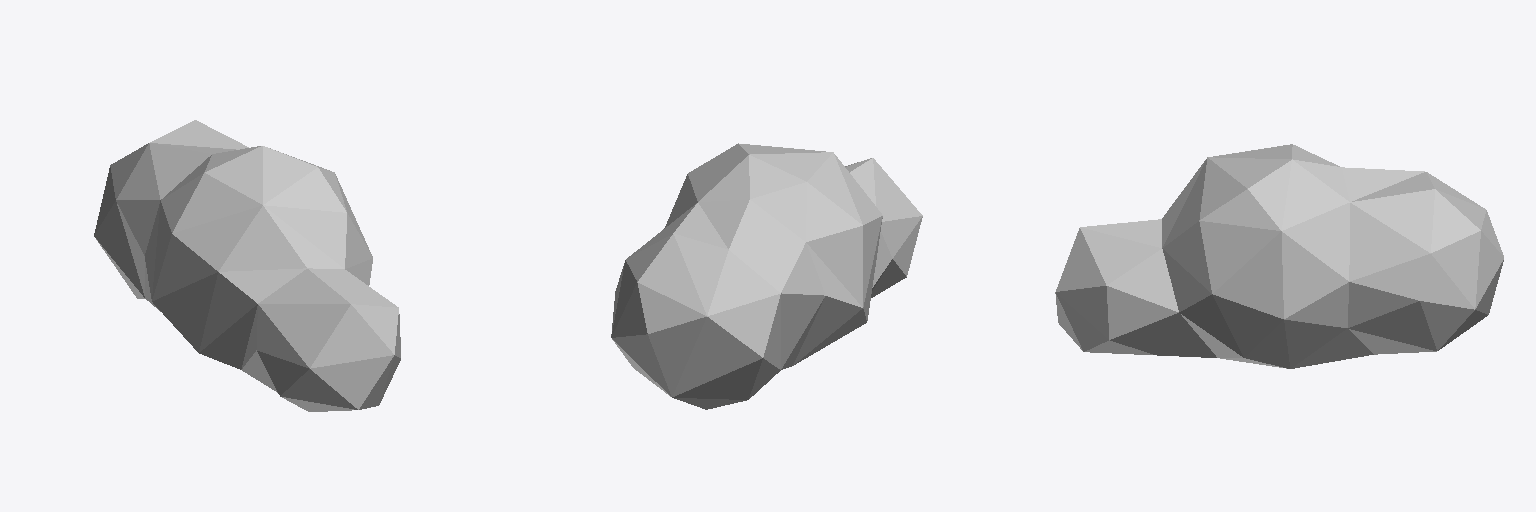
Rendered from cloud_1.obj.
3 views of the same model, side by side, from view 1: azimuth 30°, elevation 25°; view 2: azimuth 150°, elevation 25°; view 3: azimuth 270°, elevation 25° (orthographic).
Parts seen in each view (by area): view 1: Cloud1; view 2: Cloud1; view 3: Cloud1.
Part boxes in pixels (bbox=[...]): Cloud1: bbox=[94, 120, 400, 411]; Cloud1: bbox=[611, 143, 922, 409]; Cloud1: bbox=[1055, 144, 1503, 368].
Size of the model in its own units: 2.05 by 2.02 by 4.